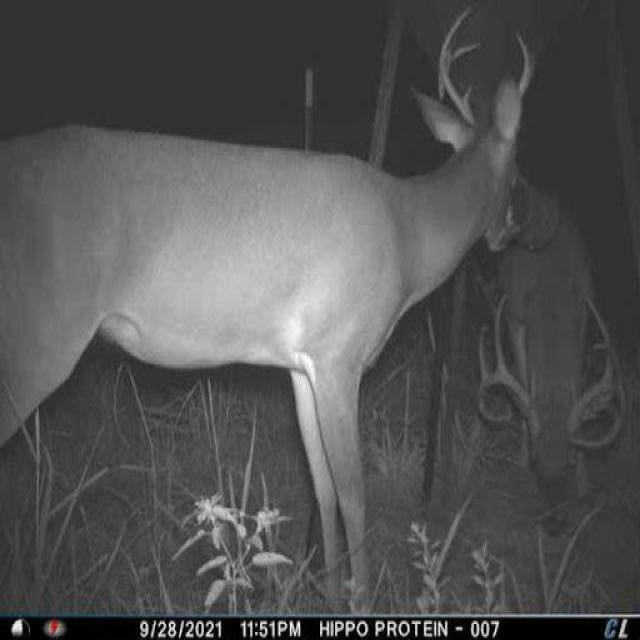deer: (0, 1, 541, 616), (466, 159, 640, 540)
